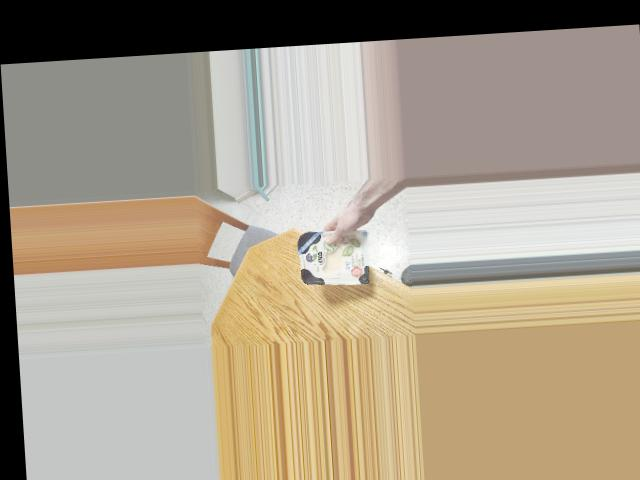cheese: (280, 225, 386, 288)
